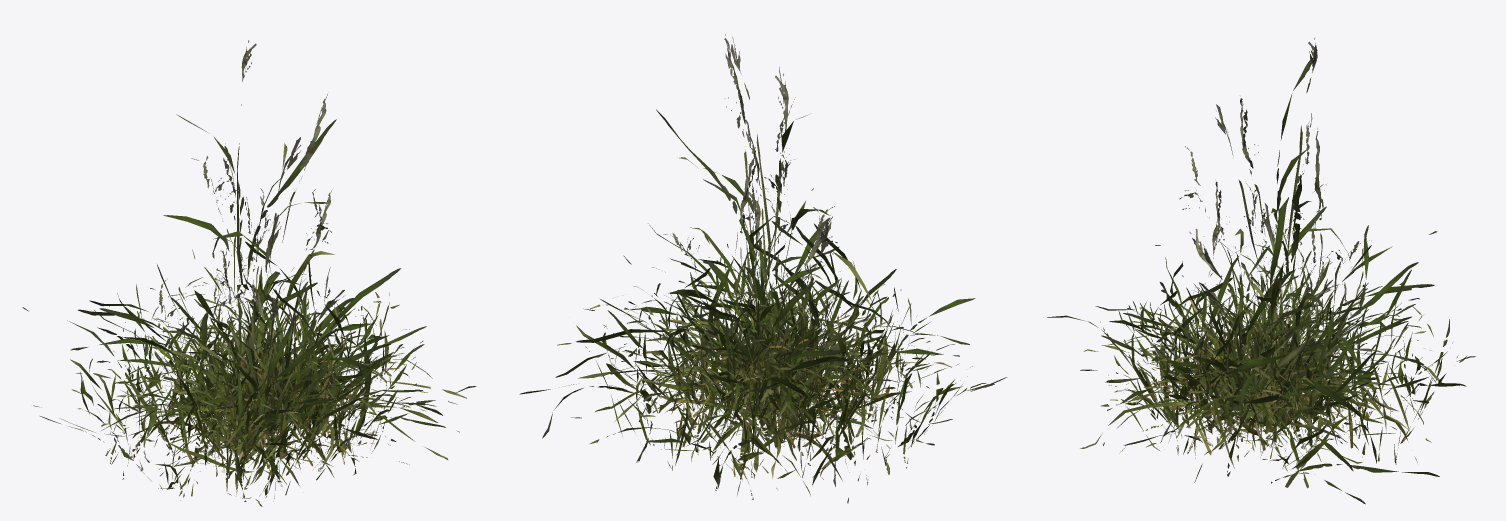
File: grass-medium-01.glb
3 renders of one model, left to right at view 1: azimuth 30°, elevation 25°; view 2: azimuth 150°, elevation 25°; view 3: azimuth 270°, elevation 25°, orthographic. The views are drawn at different scales.
Parts seen in each view (by area): view 1: grass_medium_01_large_a_LOD0, grass_medium_01_large_c_LOD0, grass_medium_01_large_b_LOD0, grass_medium_01_mid_a_LOD0, grass_medium_01_mid_c_LOD0, grass_medium_01_tall_a_LOD0, grass_medium_01_tall_b_LOD0, grass_medium_01_tall_c_LOD0, grass_medium_01_mid_b_LOD0, grass_medium_01_small_a_LOD0; view 2: grass_medium_01_large_a_LOD0, grass_medium_01_large_c_LOD0, grass_medium_01_large_b_LOD0, grass_medium_01_mid_a_LOD0, grass_medium_01_tall_a_LOD0, grass_medium_01_mid_b_LOD0, grass_medium_01_mid_c_LOD0, grass_medium_01_tall_b_LOD0, grass_medium_01_tall_c_LOD0, grass_medium_01_small_a_LOD0, grass_medium_01_small_b_LOD0; view 3: grass_medium_01_large_a_LOD0, grass_medium_01_large_c_LOD0, grass_medium_01_large_b_LOD0, grass_medium_01_mid_a_LOD0, grass_medium_01_tall_b_LOD0, grass_medium_01_tall_a_LOD0, grass_medium_01_mid_c_LOD0, grass_medium_01_tall_c_LOD0, grass_medium_01_mid_b_LOD0, grass_medium_01_small_b_LOD0.
Part boxes in pixels (left/top/right/bottom): grass_medium_01_large_a_LOD0: left=22, top=231, right=424, bottom=506; grass_medium_01_large_c_LOD0: left=99, top=273, right=476, bottom=486; grass_medium_01_large_b_LOD0: left=70, top=230, right=466, bottom=490; grass_medium_01_mid_a_LOD0: left=101, top=189, right=436, bottom=478; grass_medium_01_mid_c_LOD0: left=162, top=290, right=390, bottom=466; grass_medium_01_tall_a_LOD0: left=163, top=40, right=336, bottom=389; grass_medium_01_tall_b_LOD0: left=178, top=94, right=334, bottom=442; grass_medium_01_tall_c_LOD0: left=150, top=143, right=358, bottom=446; grass_medium_01_mid_b_LOD0: left=104, top=230, right=348, bottom=496; grass_medium_01_small_a_LOD0: left=146, top=288, right=308, bottom=488; grass_medium_01_large_a_LOD0: left=519, top=223, right=1007, bottom=503; grass_medium_01_large_c_LOD0: left=555, top=217, right=969, bottom=479; grass_medium_01_large_b_LOD0: left=571, top=228, right=951, bottom=454; grass_medium_01_mid_a_LOD0: left=599, top=117, right=898, bottom=480; grass_medium_01_tall_a_LOD0: left=651, top=36, right=829, bottom=426; grass_medium_01_mid_b_LOD0: left=639, top=198, right=868, bottom=490; grass_medium_01_mid_c_LOD0: left=621, top=226, right=897, bottom=434; grass_medium_01_tall_b_LOD0: left=677, top=34, right=876, bottom=420; grass_medium_01_tall_c_LOD0: left=692, top=147, right=860, bottom=445; grass_medium_01_small_a_LOD0: left=703, top=240, right=920, bottom=460; grass_medium_01_small_b_LOD0: left=657, top=275, right=878, bottom=454; grass_medium_01_large_a_LOD0: left=1047, top=206, right=1475, bottom=504; grass_medium_01_large_c_LOD0: left=1080, top=246, right=1428, bottom=471; grass_medium_01_large_b_LOD0: left=1080, top=221, right=1441, bottom=482; grass_medium_01_mid_a_LOD0: left=1123, top=181, right=1410, bottom=442; grass_medium_01_tall_b_LOD0: left=1169, top=98, right=1349, bottom=442; grass_medium_01_tall_a_LOD0: left=1155, top=38, right=1371, bottom=399; grass_medium_01_mid_c_LOD0: left=1123, top=240, right=1404, bottom=456; grass_medium_01_tall_c_LOD0: left=1189, top=128, right=1354, bottom=428; grass_medium_01_mid_b_LOD0: left=1129, top=209, right=1398, bottom=474; grass_medium_01_small_b_LOD0: left=1156, top=308, right=1396, bottom=461.
Size of the model in its own units: 0.3169 by 0.3225 by 0.3063.
17 materials, 17 textured.
